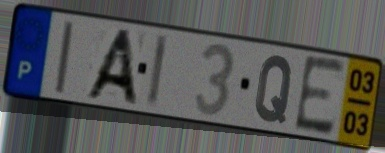3: (193, 41, 239, 119)
A: (81, 27, 141, 109)
E: (291, 52, 348, 139)
I: (144, 31, 171, 111), (52, 18, 77, 96)
Q: (252, 53, 296, 126)
